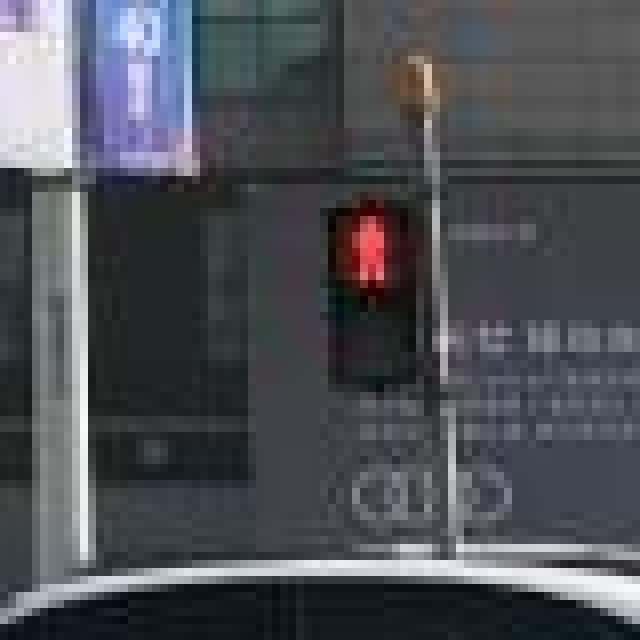redlight: (312, 192, 440, 392)
